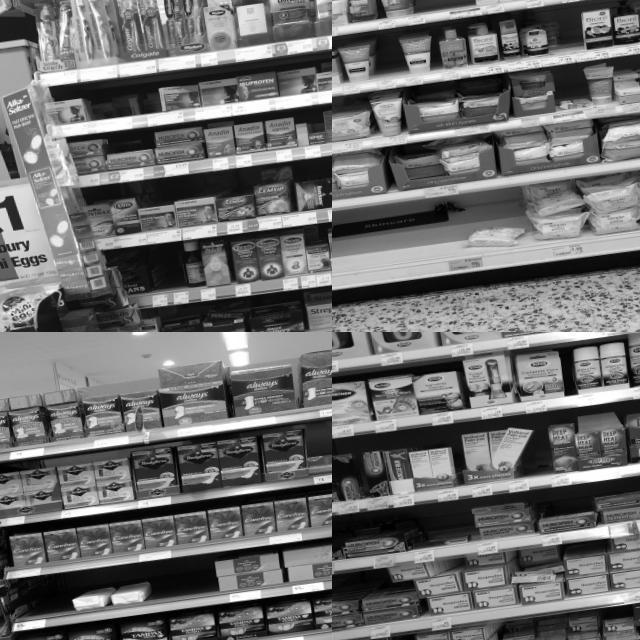Imprecise: (390, 562, 470, 614), (332, 205, 456, 234), (514, 539, 561, 602), (492, 424, 538, 484), (252, 165, 290, 212), (465, 224, 527, 246), (90, 94, 158, 114)
